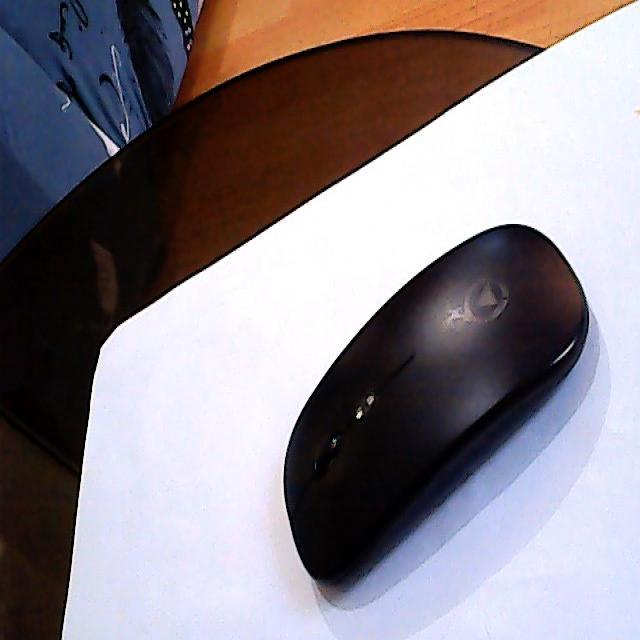-keyboard-: (278, 215, 596, 589)
